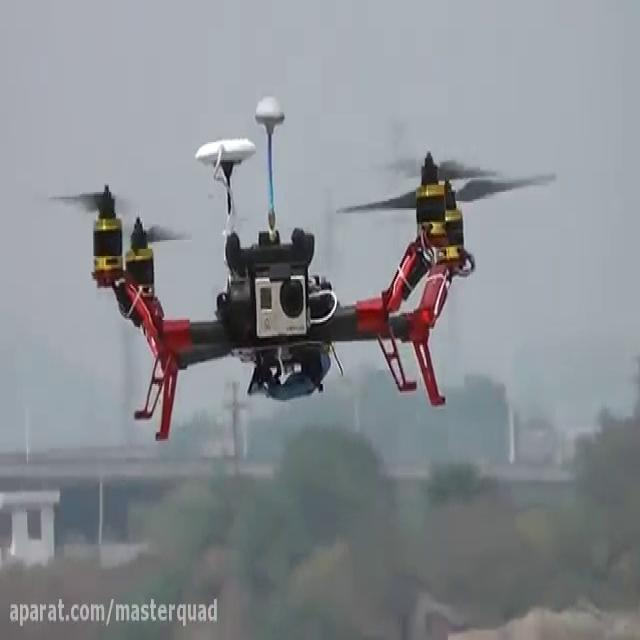drone: (40, 91, 562, 446)
